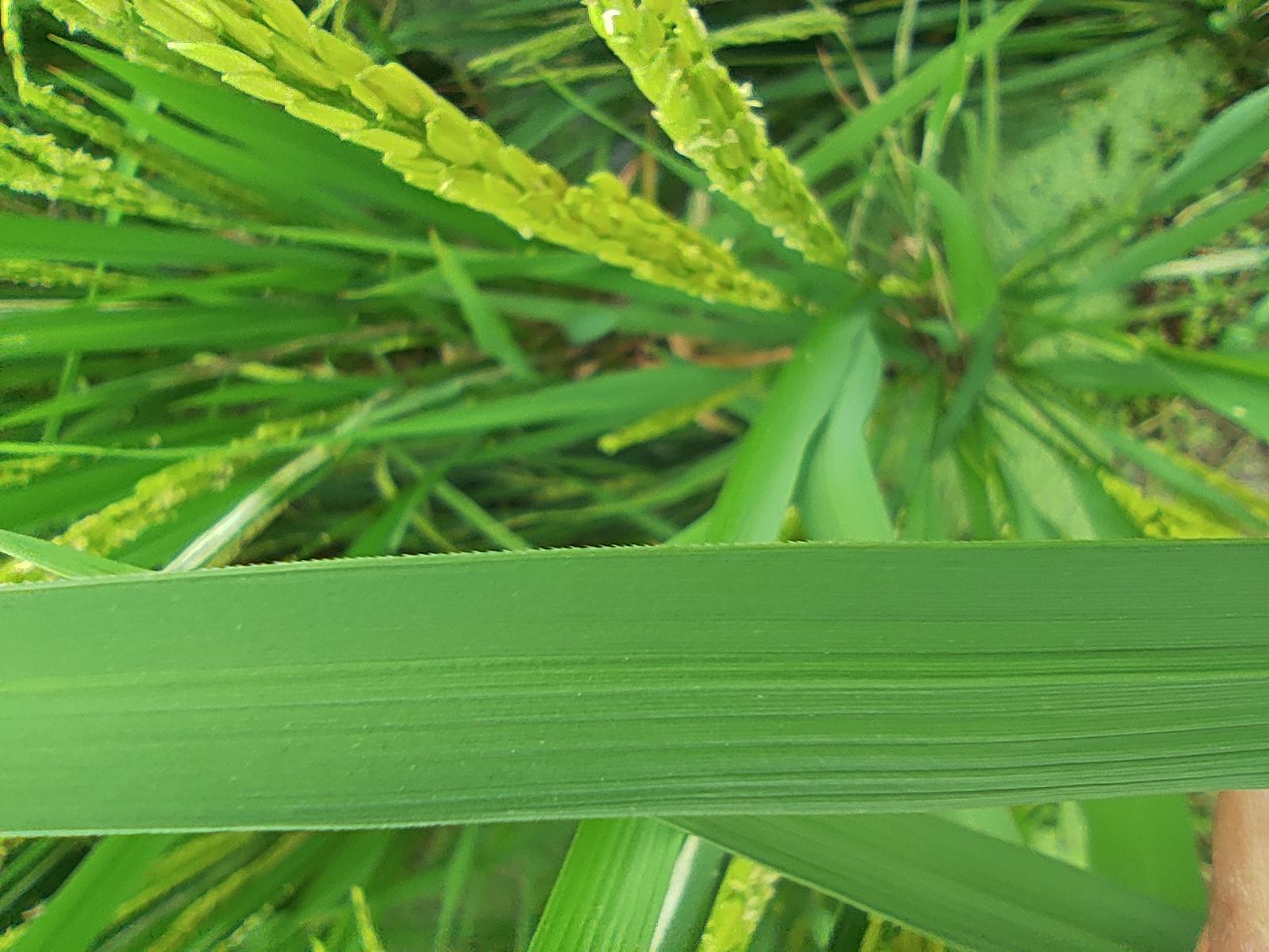Healthy: (157, 0, 549, 951)
